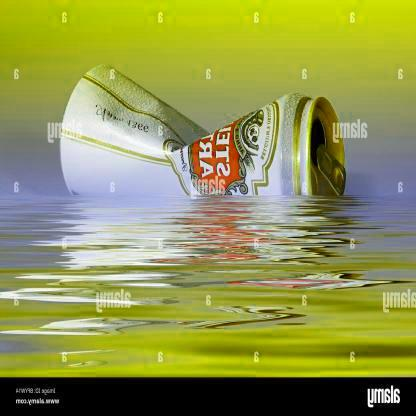Metal: (53, 64, 350, 206)
